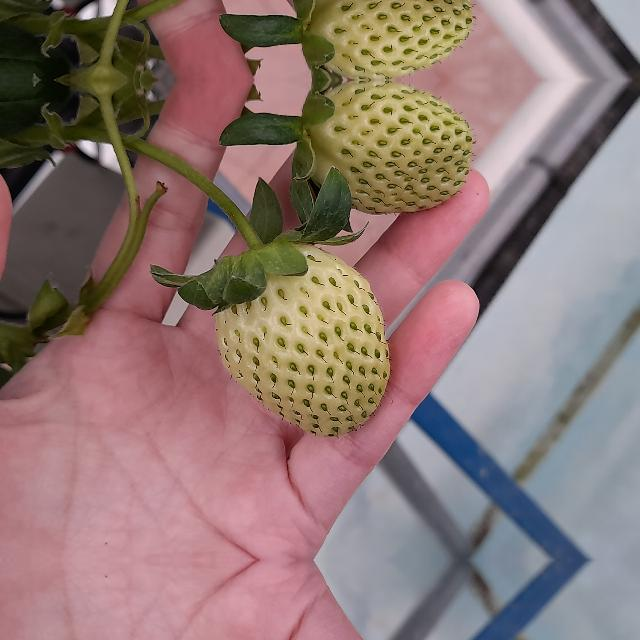Health_25: (214, 243, 390, 437), (300, 80, 478, 214), (300, 0, 478, 80)
